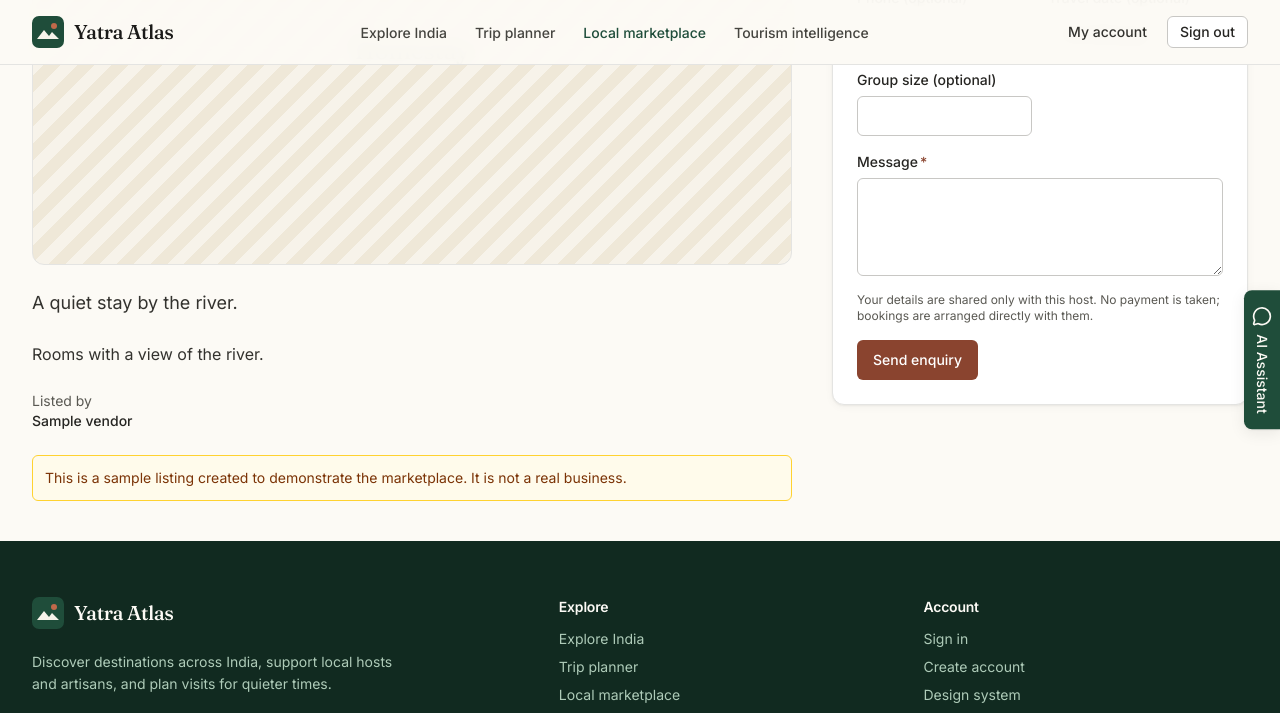
Scenario: Enquiry form › validates, then sends the enquiry with the CSRF token
(page scrolled)
Click the button "Send enquiry".
click(918, 360)  # box [857,340,978,380]
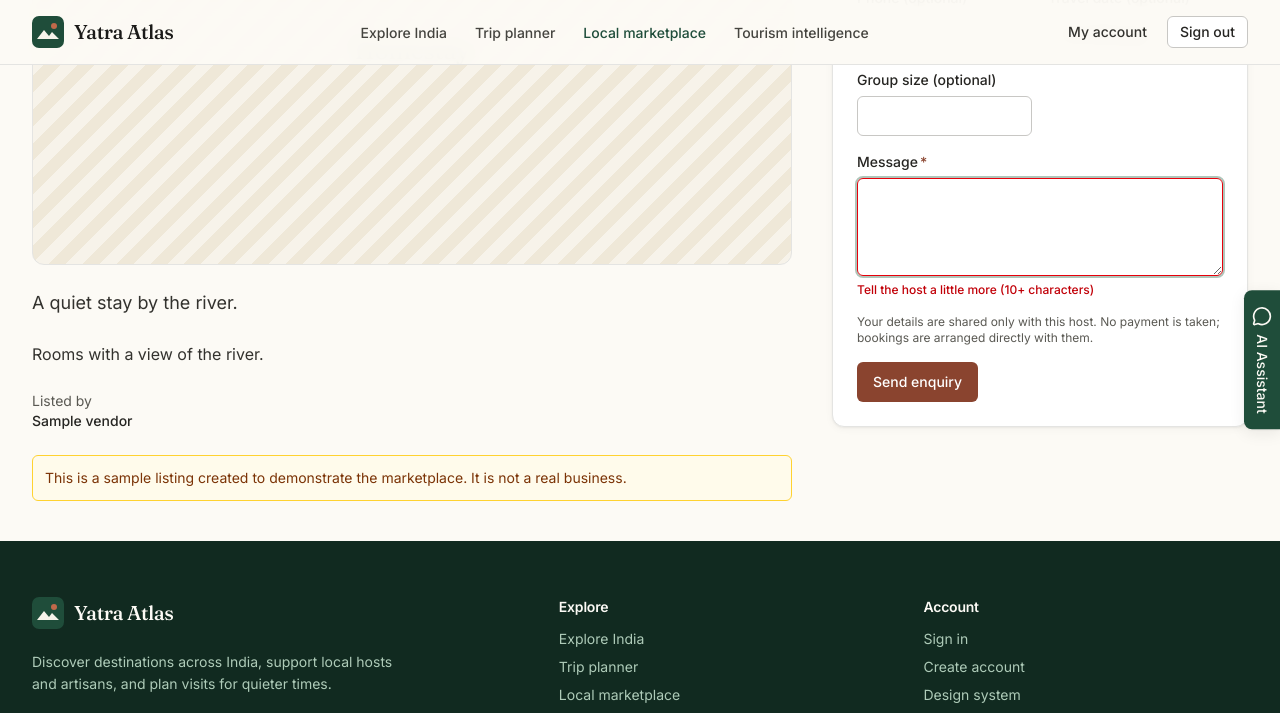
Type "Is the room free in December?" into the text box labelled "Message*".
click(1040, 227); type("Is the room free in December?")  # box [857,178,1223,276]
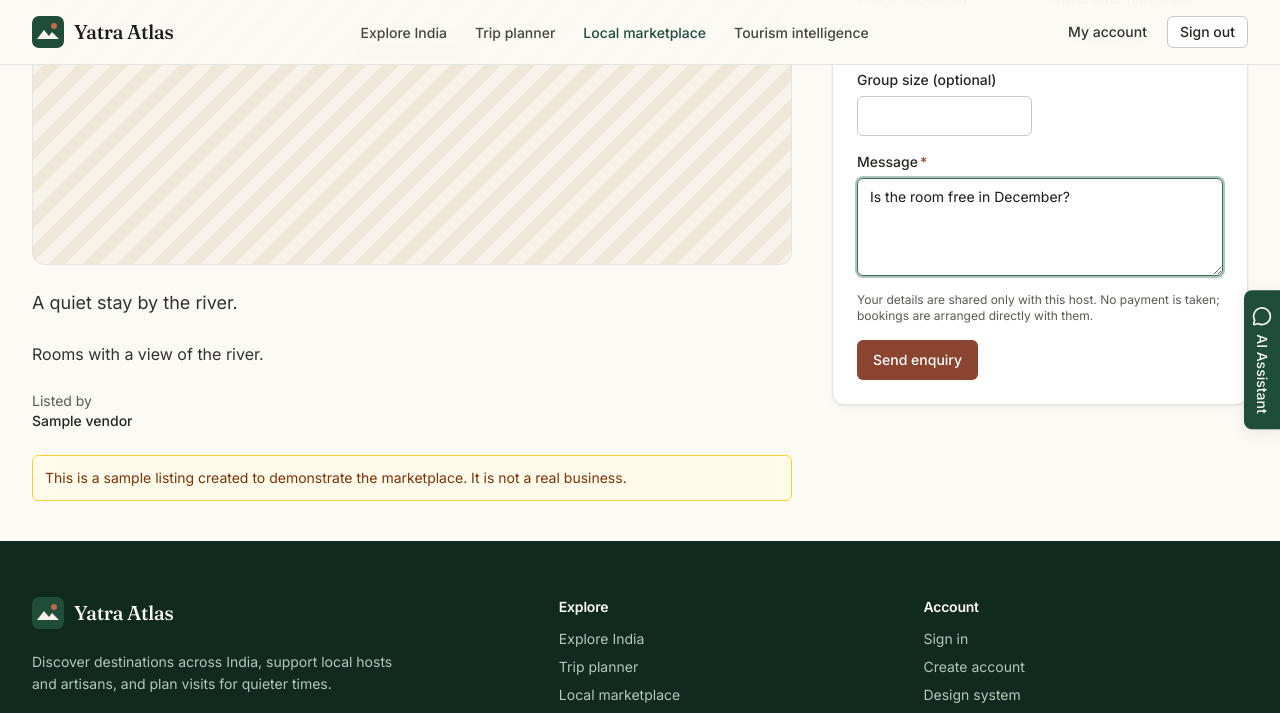
Click the button "Send enquiry".
click(918, 360)  # box [857,340,978,380]
(page scrolled)
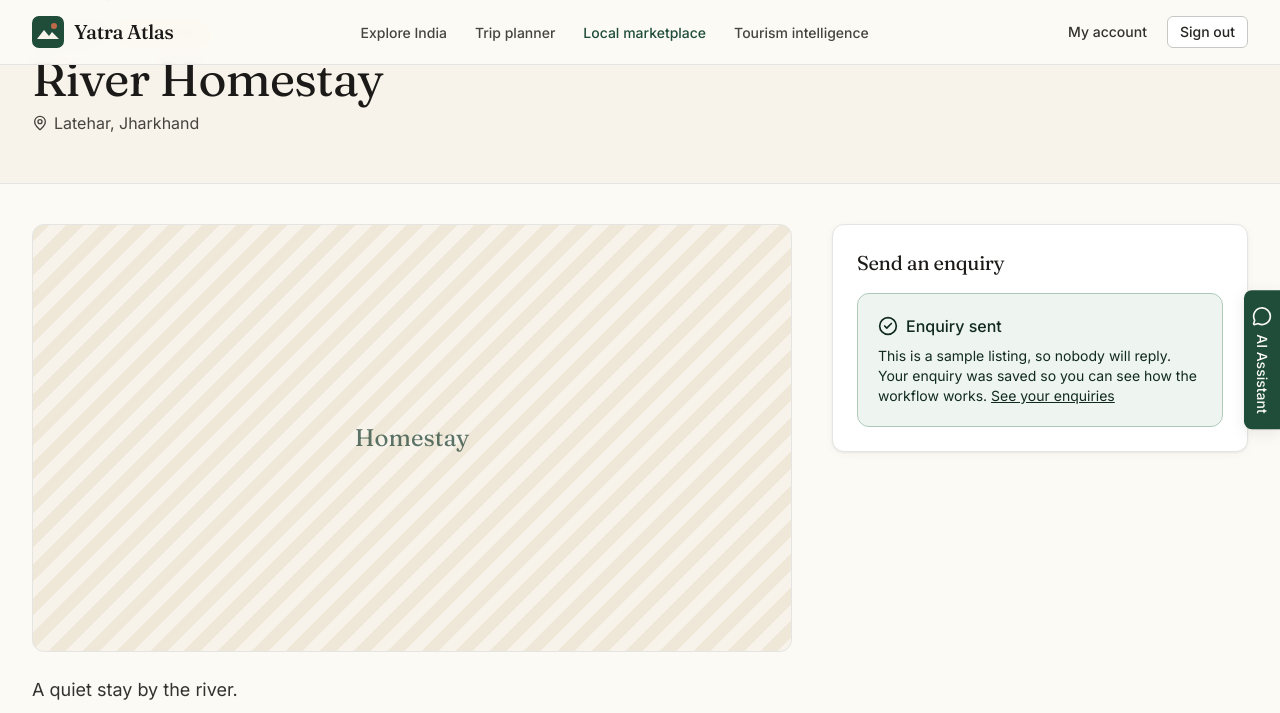
Expected: the text "Enquiry sent" is shown, [878,316,1002,336]
Expected: the text "Enquiry sent" shows "sample listing, so nobody will reply", [878,347,1197,404]
